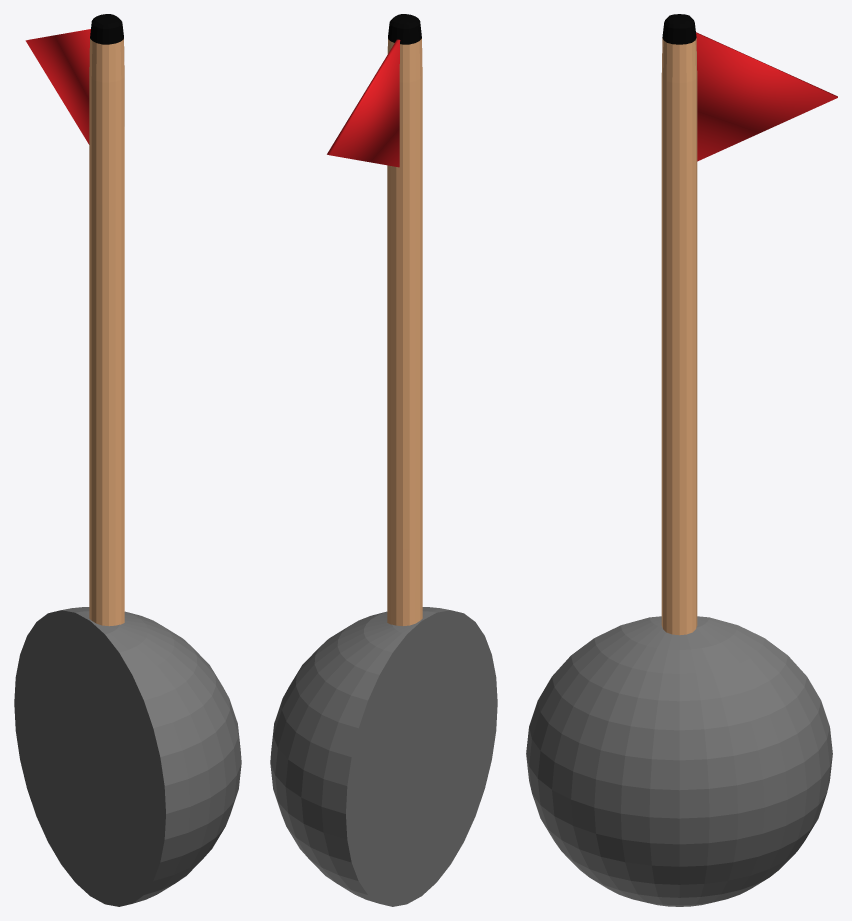
Rendered from Flag.fbx.
3 renders of one model, left to right at view 1: azimuth 30°, elevation 25°; view 2: azimuth 150°, elevation 25°; view 3: azimuth 270°, elevation 25°, orthographic.
Visible parts, largest first — view 1: Sphere, Cube.001; view 2: Sphere, Cube.001; view 3: Sphere, Cube.001.
Part boxes in pixels (x1,y1,x2,y2): Sphere: (14,607,241,906); Cube.001: (25,14,124,626); Sphere: (270,607,497,906); Cube.001: (327,14,422,626); Sphere: (526,616,832,906); Cube.001: (661,14,837,635).
Bounding box in the file's own units: 0.2761 × 1.75 × 0.5611.
